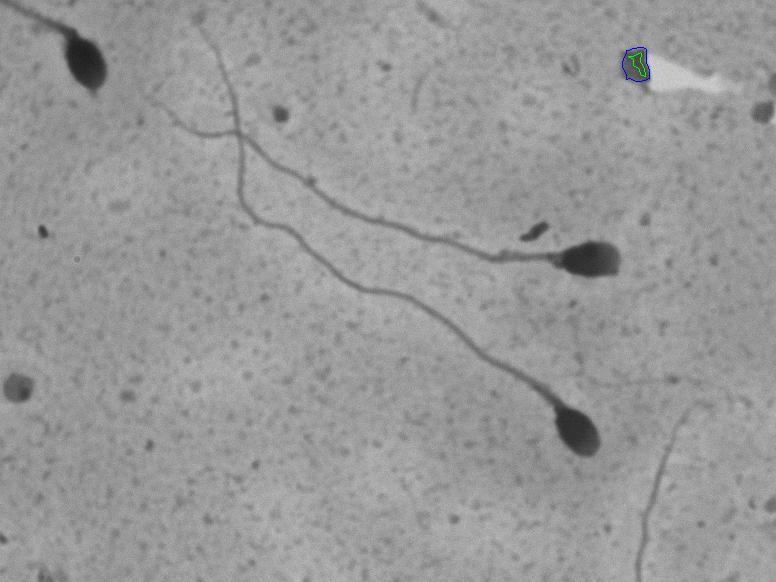Normal: (187, 22, 616, 473), (127, 82, 637, 290)
